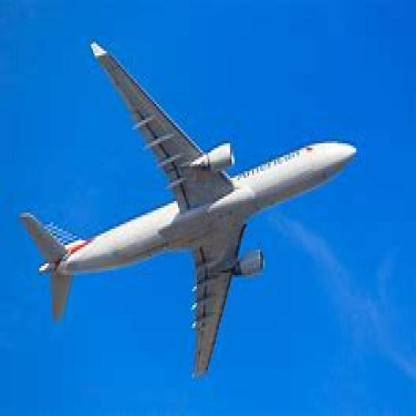plane: (13, 28, 365, 386)
